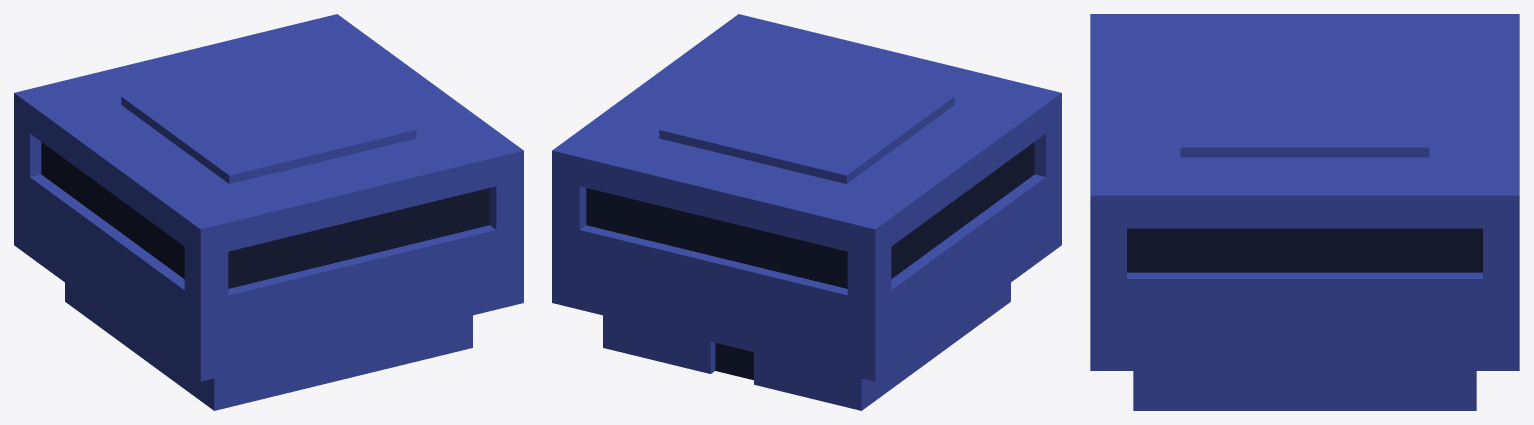
The model's file is blocks.fbx.
3 renders of one model, left to right at view 1: azimuth 30°, elevation 25°; view 2: azimuth 150°, elevation 25°; view 3: azimuth 270°, elevation 25°, orthographic. The views are drawn at different scales.
Parts seen in each view (by area): view 1: top, base; view 2: top, base; view 3: top, base.
Part boxes in pixels (box(x1,y1,x2,y2)): top: box(14, 14, 523, 330); base: box(14, 194, 523, 410); top: box(552, 14, 1061, 330); base: box(552, 194, 1061, 410); top: box(1090, 14, 1519, 312); base: box(1090, 312, 1519, 410).
Size of the model in its own units: 200 by 125 by 200.
2 materials, 2 textured.
